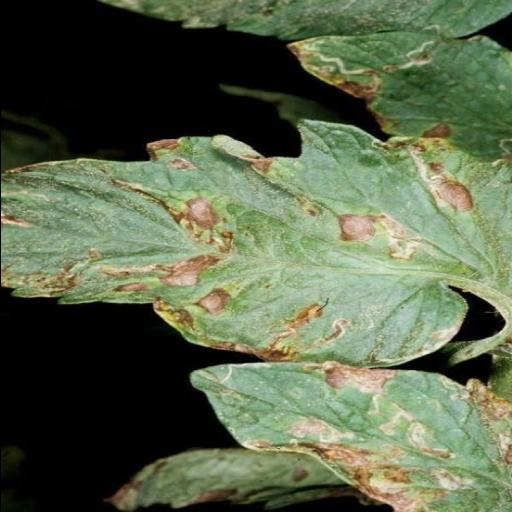Early Blight: (1, 118, 512, 374), (184, 361, 512, 512)
